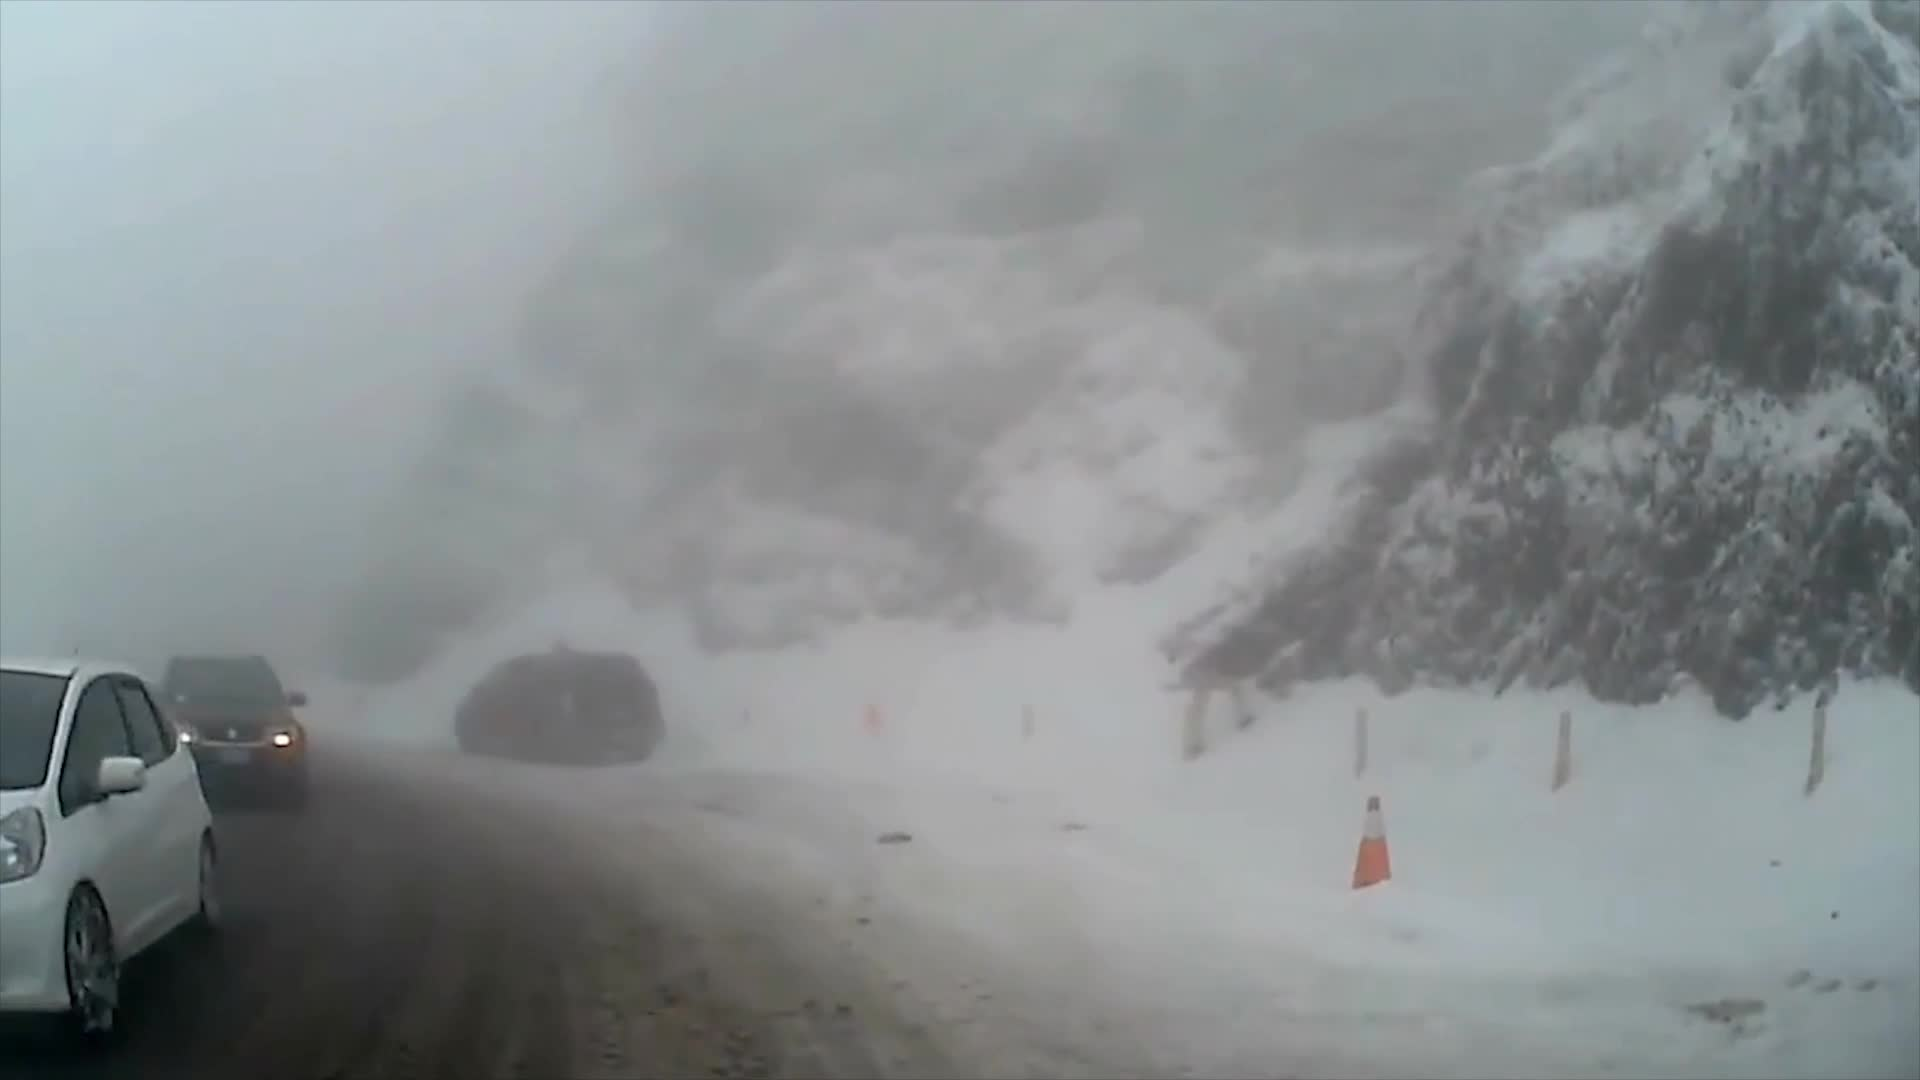vehicle: (0, 654, 228, 1048), (133, 647, 311, 811), (450, 646, 658, 764)
